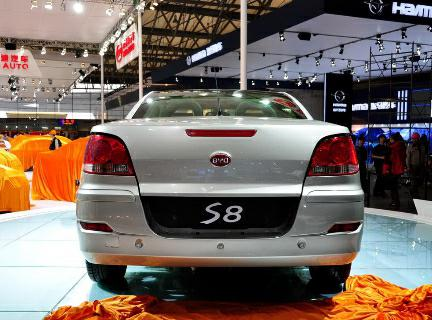比亚迪-S8: (69, 87, 371, 295)
